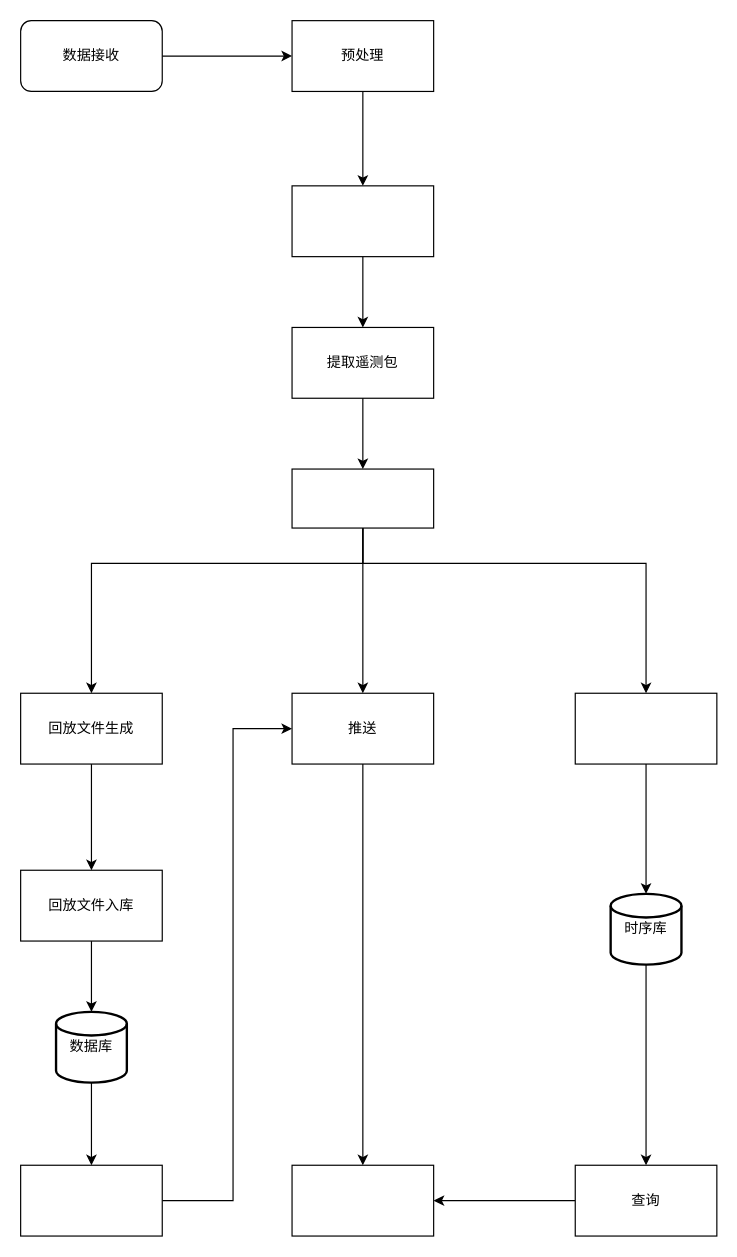
The diagram is 737 pixels wide and 1257 high, and some of its shapes have lost their labels. Each missing label, with the box of its shape:
拼帧: (291, 185, 434, 257)
显示: (291, 1164, 434, 1236)
查询回放文件: (19, 1164, 162, 1236)
解析包参数: (291, 468, 434, 528)
遥测参数入库: (574, 692, 717, 764)
